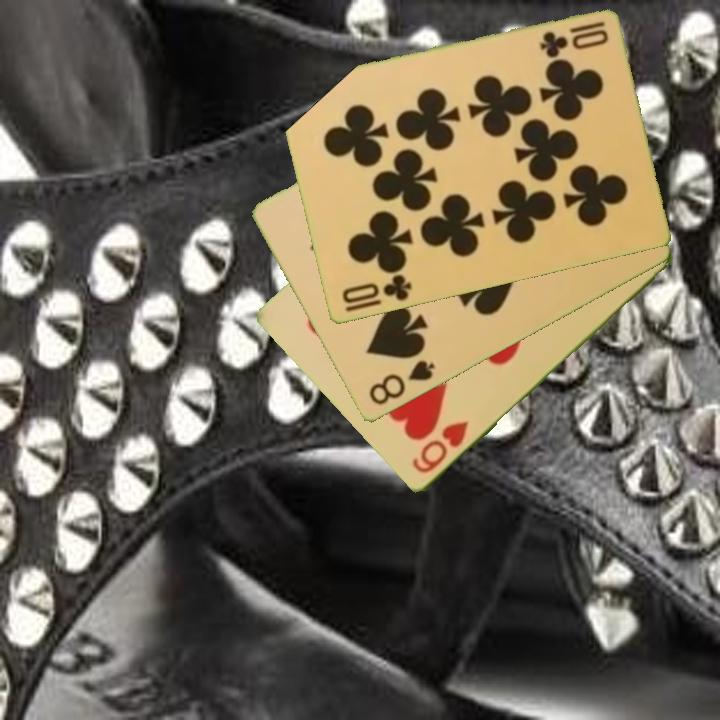10c: (338, 271, 414, 316), (536, 18, 611, 59)
6h: (408, 418, 472, 477)
8s: (365, 357, 438, 409)
